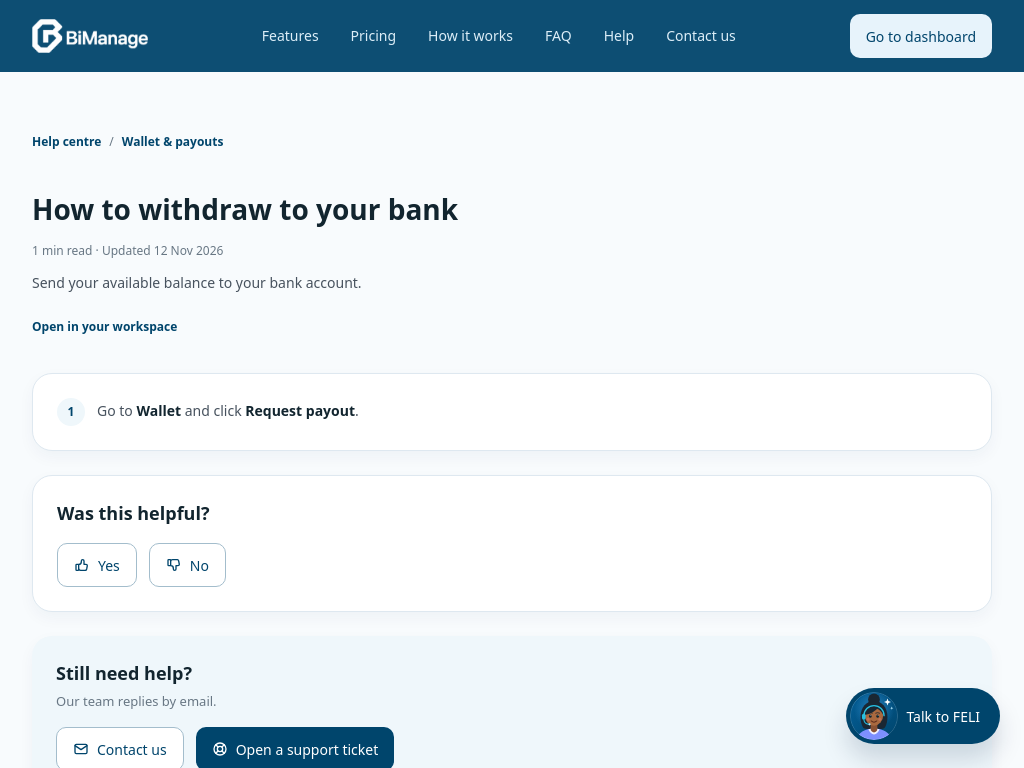
Test: /help/<slug> › signed in: stays on the public page, can vote, open a ticket or open it in the workspace
The image size is (1024, 768).
Expected: the heading "How to withdraw to your bank" is shown, x1=32 y1=190 x2=458 y2=228
What coordinates should you click on to do the following:
click the button "Yes"
I would click on:
 (97, 565)
Its box is x1=57 y1=543 x2=137 y2=587.
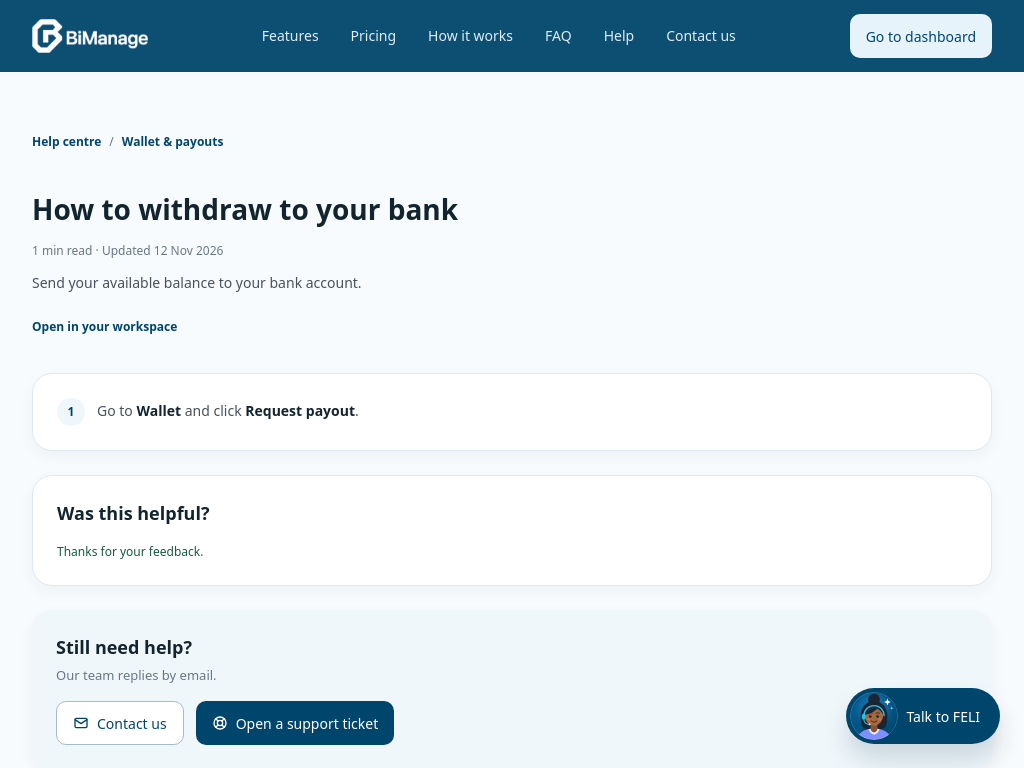
Now the text "Thanks for your feedback." is shown, box x1=57 y1=543 x2=203 y2=560
